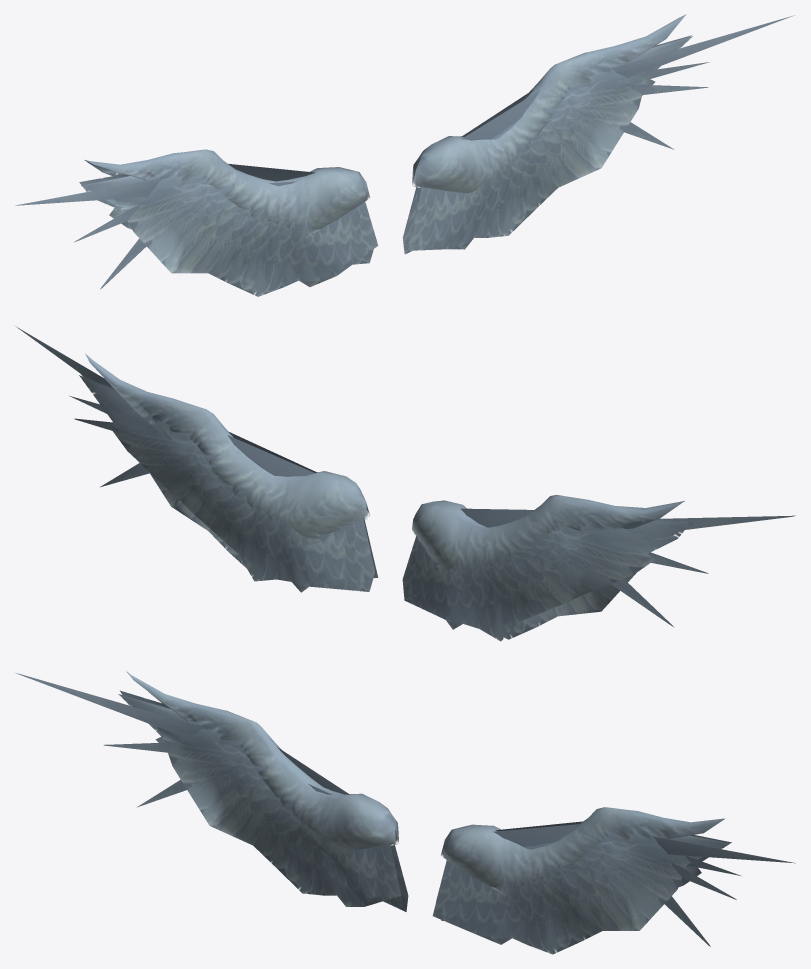
File: nile-wings.glb
The picture shows the model from 3 angles, top to bottom: view 1: azimuth 30°, elevation 25°; view 2: azimuth 150°, elevation 25°; view 3: azimuth 330°, elevation 25°; orthographic projection.
Visible parts, largest first — view 1: Object_4; view 2: Object_4; view 3: Object_4.
Boxes of the visible parts, x1=… form: Object_4: x1=15, y1=14, x2=795, y2=296; Object_4: x1=15, y1=326, x2=795, y2=641; Object_4: x1=16, y1=671, x2=795, y2=954.
Size of the model in its own units: 3.96 by 0.876 by 0.3024.
1 material, 1 textured.
